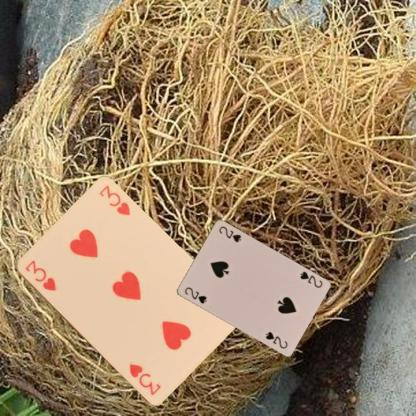2s: (297, 268, 324, 289), (182, 284, 207, 305)
3h: (22, 257, 57, 293)
